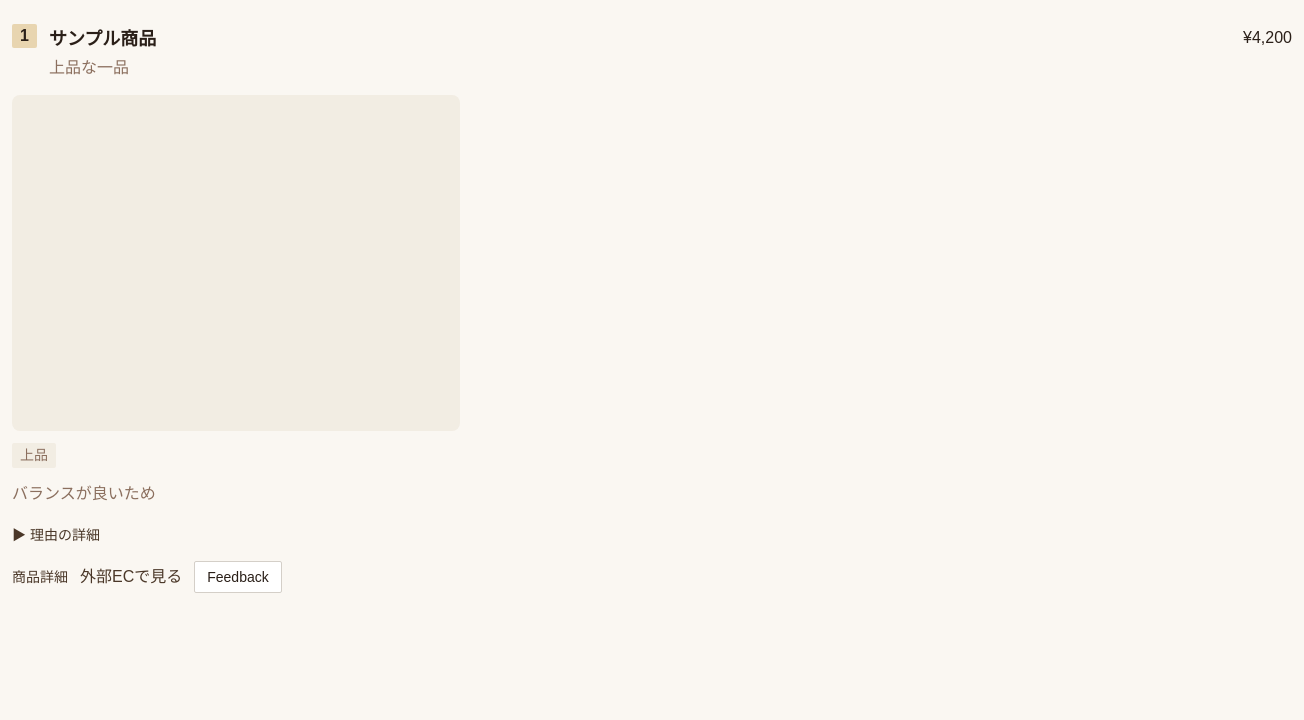
Test case: RecommendationResultItem (SCR-004 / SCR-005) › shows reason points in accordion when provided
Click the button "▶ 理由の詳細" at (56, 535), box [12, 525, 100, 546]
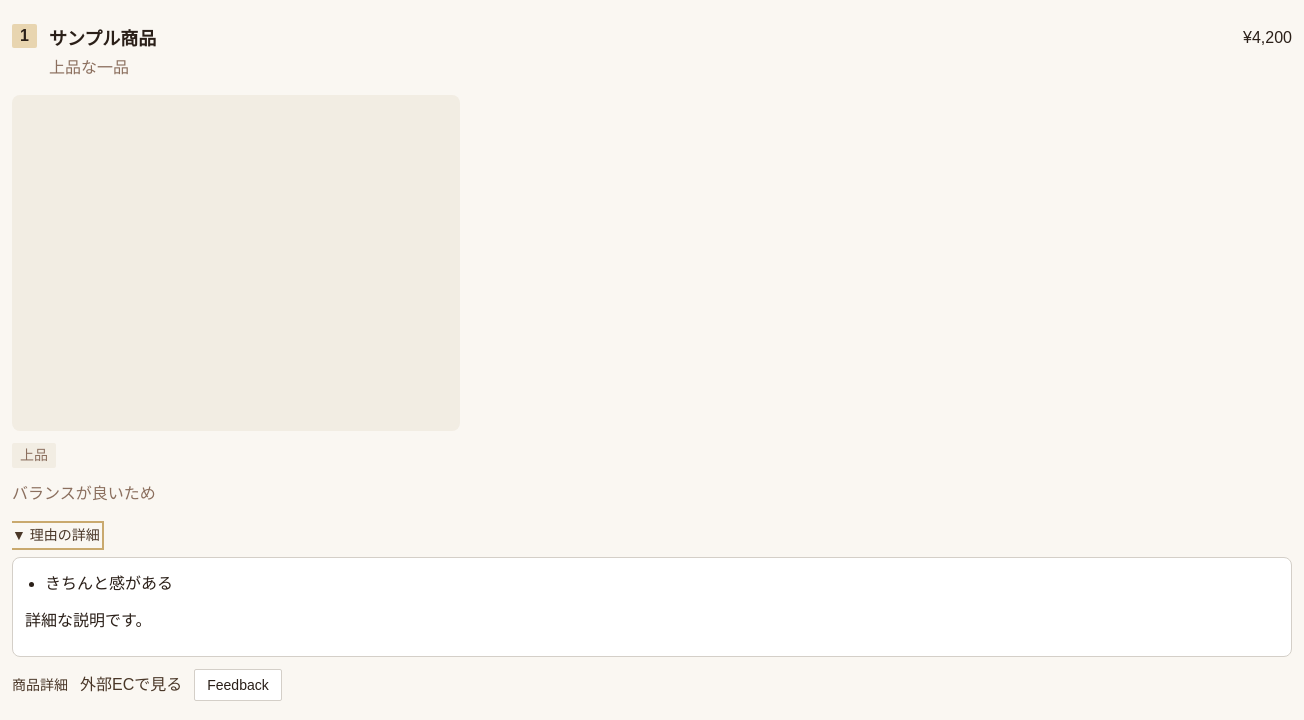
Check: the list item "きちんと感がある" is shown, box [45, 576, 173, 592]
Check: the text "詳細な説明です。" is shown, box [25, 612, 151, 629]
